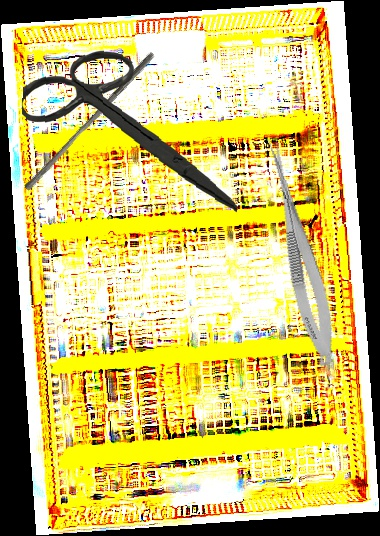Iris Scissors: (17, 46, 245, 214)
Micro Scissor: (252, 134, 346, 369)
Pusher: (23, 46, 156, 196)
